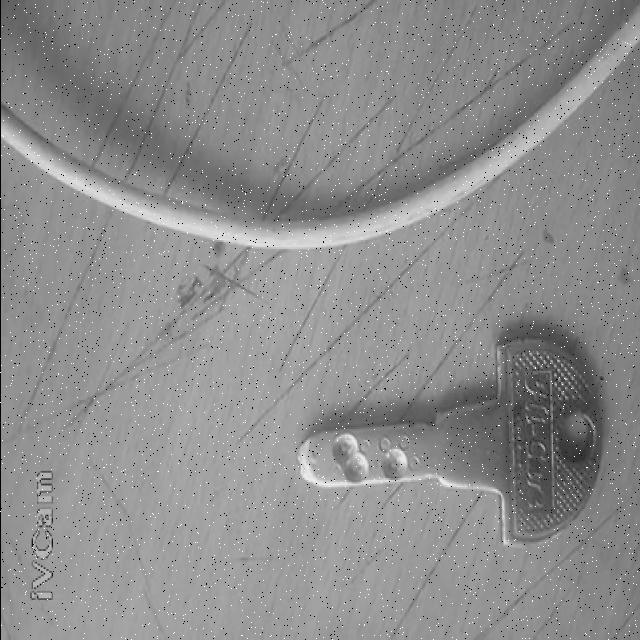key: (297, 340, 601, 545)
